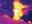Hotspot: (13, 0, 25, 20)
